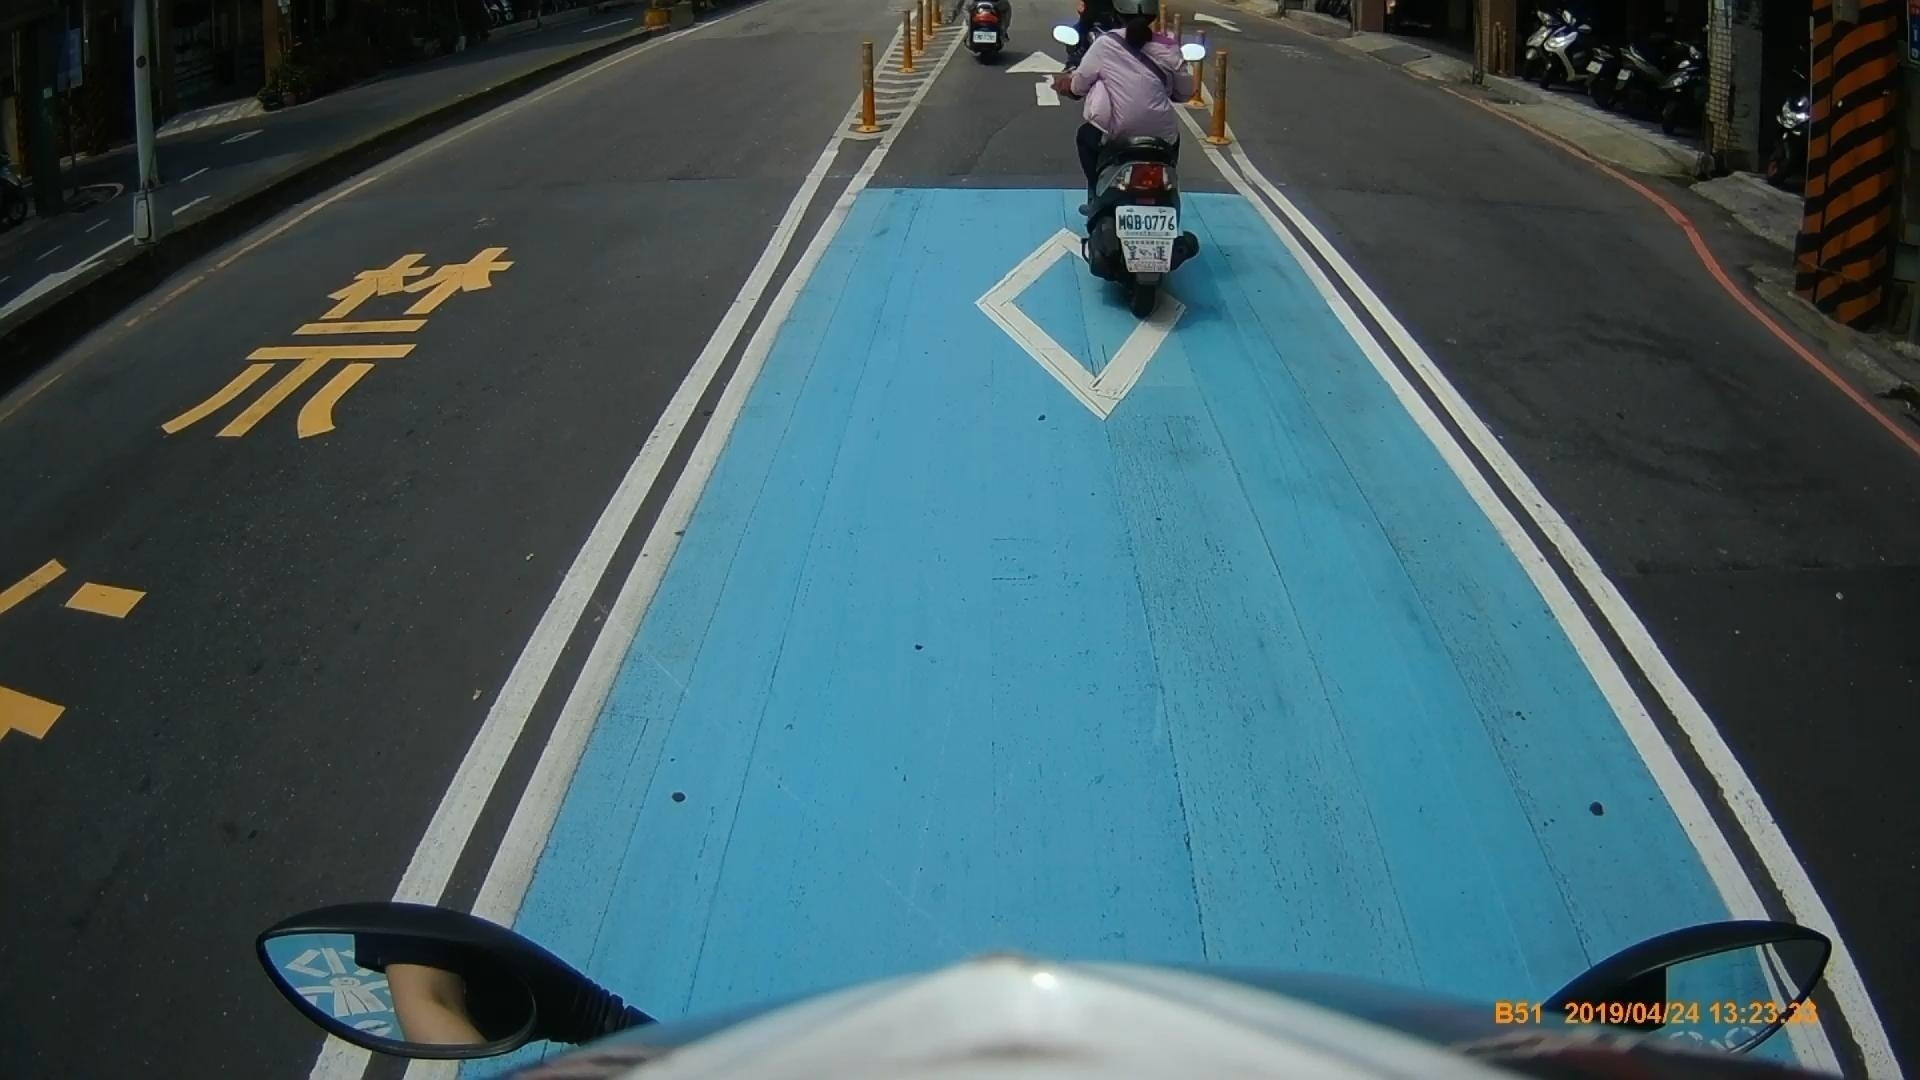License_plate: (1112, 201, 1181, 237)
